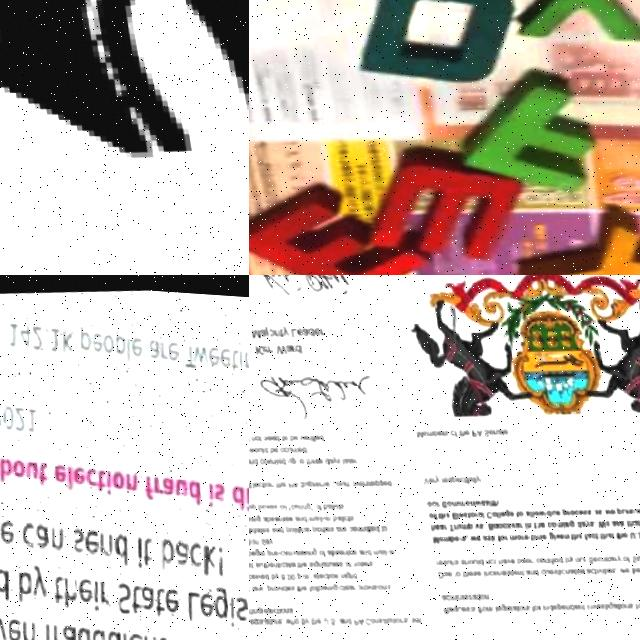0: (0, 400, 14, 428), (282, 569, 287, 578), (278, 570, 283, 578)
1: (19, 400, 38, 432), (43, 322, 62, 353), (4, 317, 19, 348)
2: (27, 318, 45, 349), (9, 400, 24, 431)
4: (14, 320, 32, 348)
8: (272, 569, 277, 579)
D: (346, 0, 523, 86)
E: (249, 177, 428, 275)
F: (455, 60, 593, 191)
J: (0, 0, 249, 275)
W: (354, 146, 520, 261)
X: (500, 190, 640, 275)
Y: (500, 0, 640, 44)
